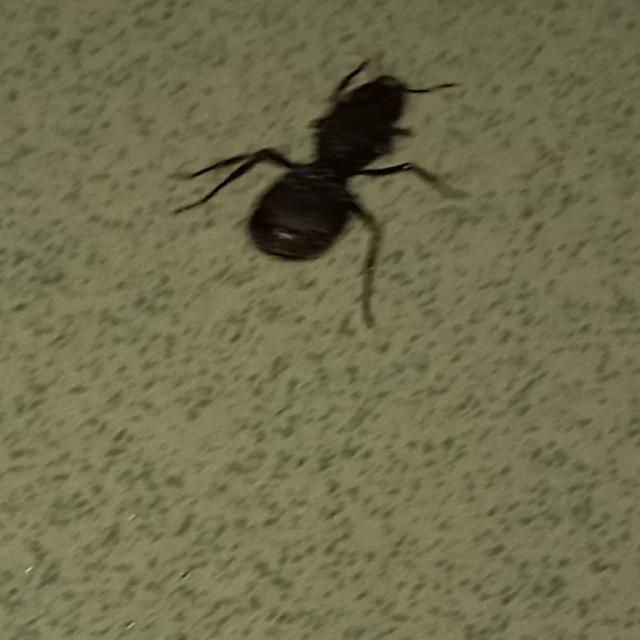Alive-Female-Dealate: (173, 59, 463, 328)
